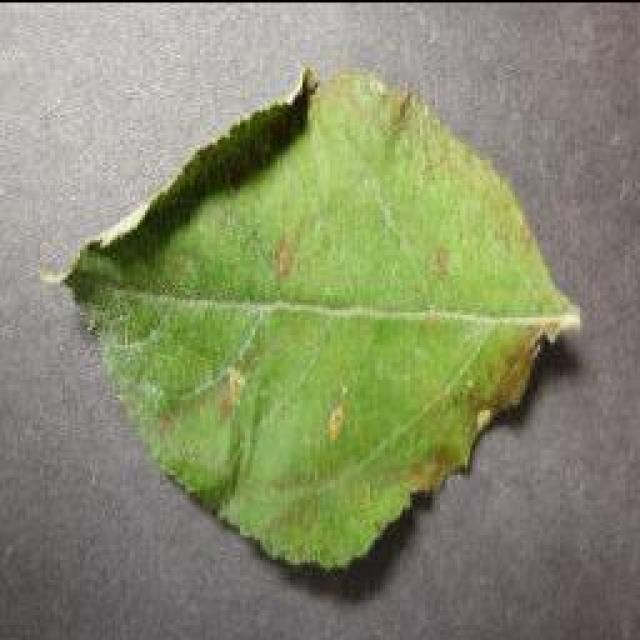Apple___Cedar_apple_rust: (32, 55, 589, 582)
